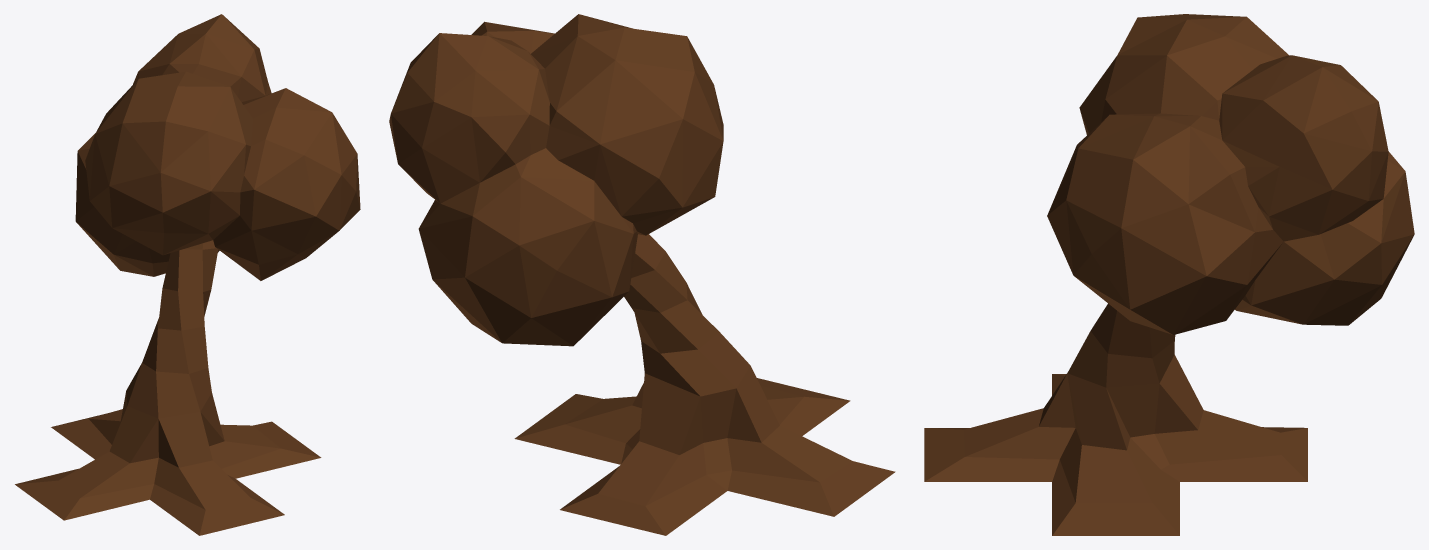
Rendered from ArbrePrairie_B.FBX.
3 renders of one model, left to right at view 1: azimuth 30°, elevation 25°; view 2: azimuth 150°, elevation 25°; view 3: azimuth 270°, elevation 25°, orthographic. The views are drawn at different scales.
Visible parts, largest first — view 1: ArbrePrairie_B; view 2: ArbrePrairie_B; view 3: ArbrePrairie_B.
Part boxes in pixels (x1,y1,x2,y2): ArbrePrairie_B: (15, 14, 360, 535); ArbrePrairie_B: (389, 14, 895, 535); ArbrePrairie_B: (924, 14, 1414, 535).
Size of the model in its own units: 3.9 by 4.07 by 3.83.
